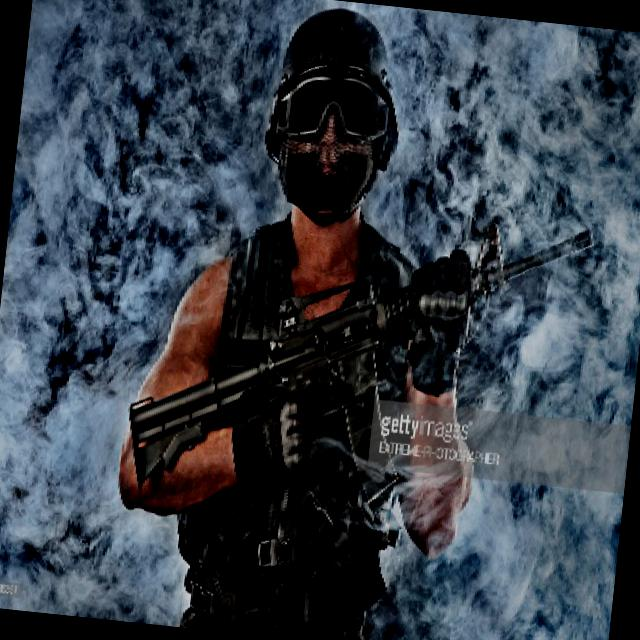long weapon: (104, 175, 604, 546)
